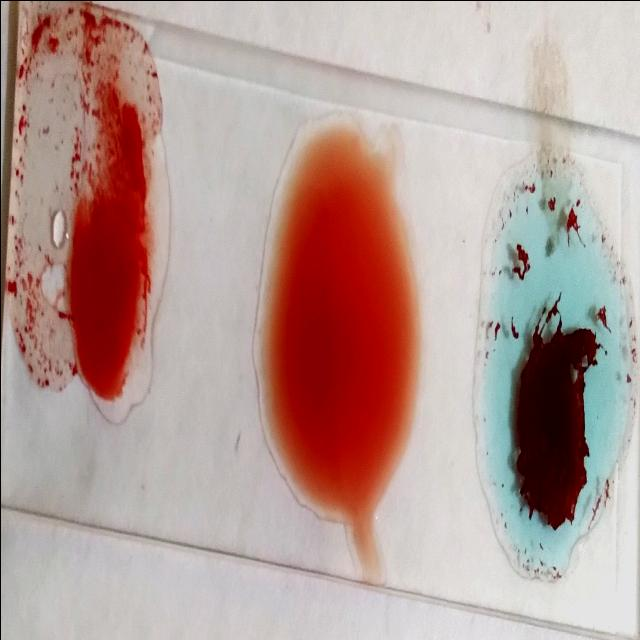A: (475, 166, 631, 585)
D: (23, 18, 164, 388)
